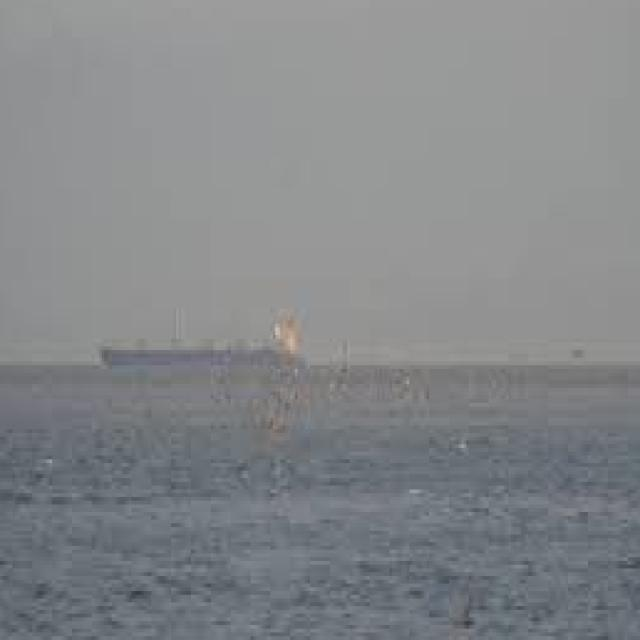cargoship: (95, 306, 302, 371)
